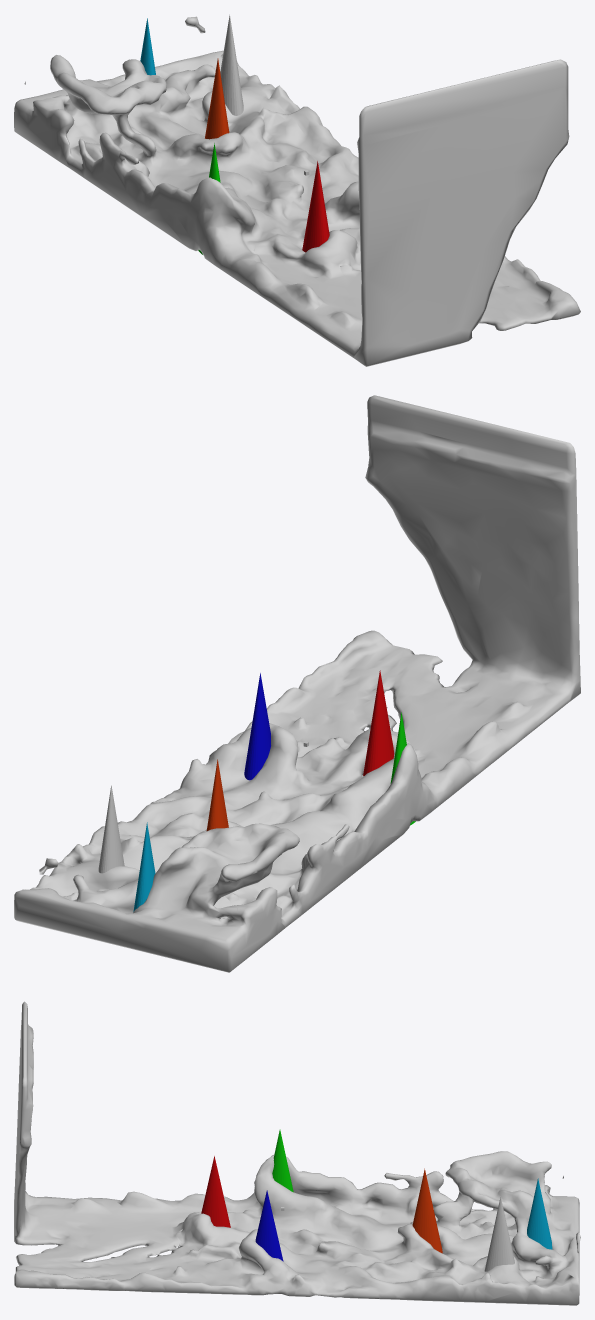
3 views of the same model, one above another, from view 1: azimuth 30°, elevation 25°; view 2: azimuth 150°, elevation 25°; view 3: azimuth 270°, elevation 25° (orthographic). The views are drawn at different scales.
Visible parts, largest first — view 1: Liquid_Domain, 円錐, 円錐.001, 円錐.004, 円錐.005; view 2: Liquid_Domain, 円錐.001, 円錐.002, 円錐, 円錐.005, 円錐.004; view 3: Liquid_Domain, 円錐.004, 円錐, 円錐.001, 円錐.005, 円錐.002, 円錐.003.
Part boxes in pixels (<box>): Liquid_Domain: <box>14,16,580,366</box>; 円錐: <box>220,14,243,115</box>; 円錐.001: <box>302,161,329,252</box>; 円錐.004: <box>205,58,229,139</box>; 円錐.005: <box>140,18,155,75</box>; Liquid_Domain: <box>14,395,580,972</box>; 円錐.001: <box>363,670,394,775</box>; 円錐.002: <box>244,673,270,780</box>; 円錐: <box>98,785,124,873</box>; 円錐.005: <box>133,822,155,911</box>; 円錐.004: <box>206,759,228,830</box>; Liquid_Domain: <box>14,1001,580,1305</box>; 円錐.004: <box>412,1168,442,1253</box>; 円錐: <box>484,1197,514,1271</box>; 円錐.001: <box>201,1156,230,1227</box>; 円錐.005: <box>527,1178,552,1249</box>; 円錐.002: <box>255,1190,283,1261</box>; 円錐.003: <box>272,1129,293,1192</box>.
Bounding box in the file's own units: 129 × 158 × 362.
